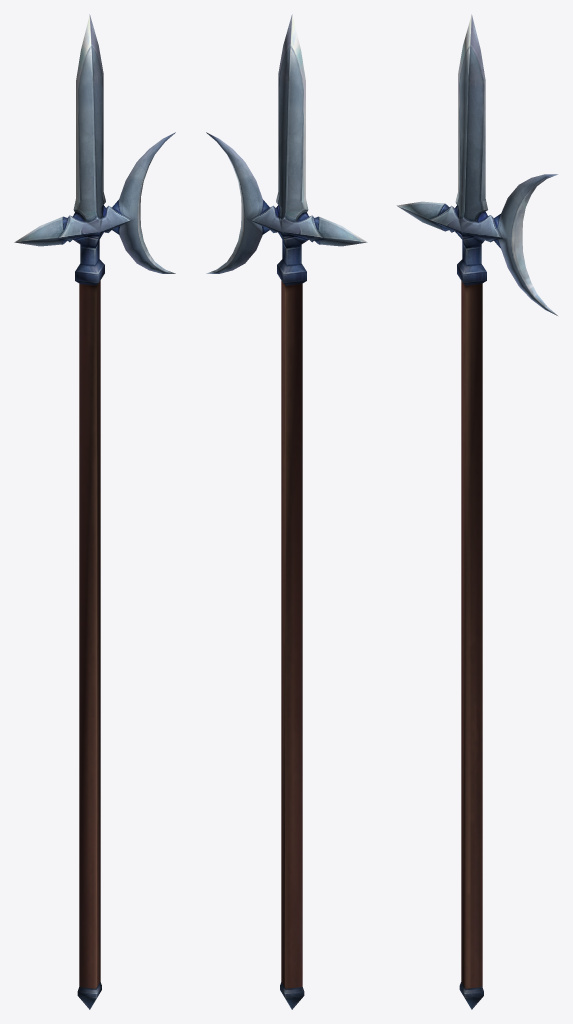
File: 1062_wuqi_1.FBX
The picture shows the model from 3 angles, left to right: view 1: azimuth 30°, elevation 25°; view 2: azimuth 150°, elevation 25°; view 3: azimuth 330°, elevation 25°; orthographic projection.
Parts seen in each view (by area): view 1: W1062_1; view 2: W1062_1; view 3: W1062_1.
Boxes of the visible parts, x1,y1,x2,y2 form: W1062_1: [14, 14, 175, 1009]; W1062_1: [206, 14, 367, 1009]; W1062_1: [396, 14, 557, 1009].
Bounding box in the file's own units: 44.55 × 261 × 9.87.
